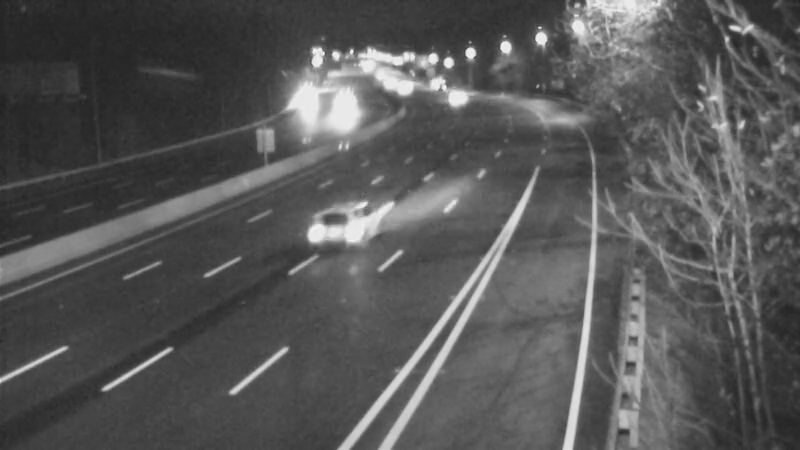vehicle: (298, 190, 378, 270), (406, 57, 456, 107), (378, 62, 428, 112), (433, 72, 483, 122), (322, 78, 372, 128)
